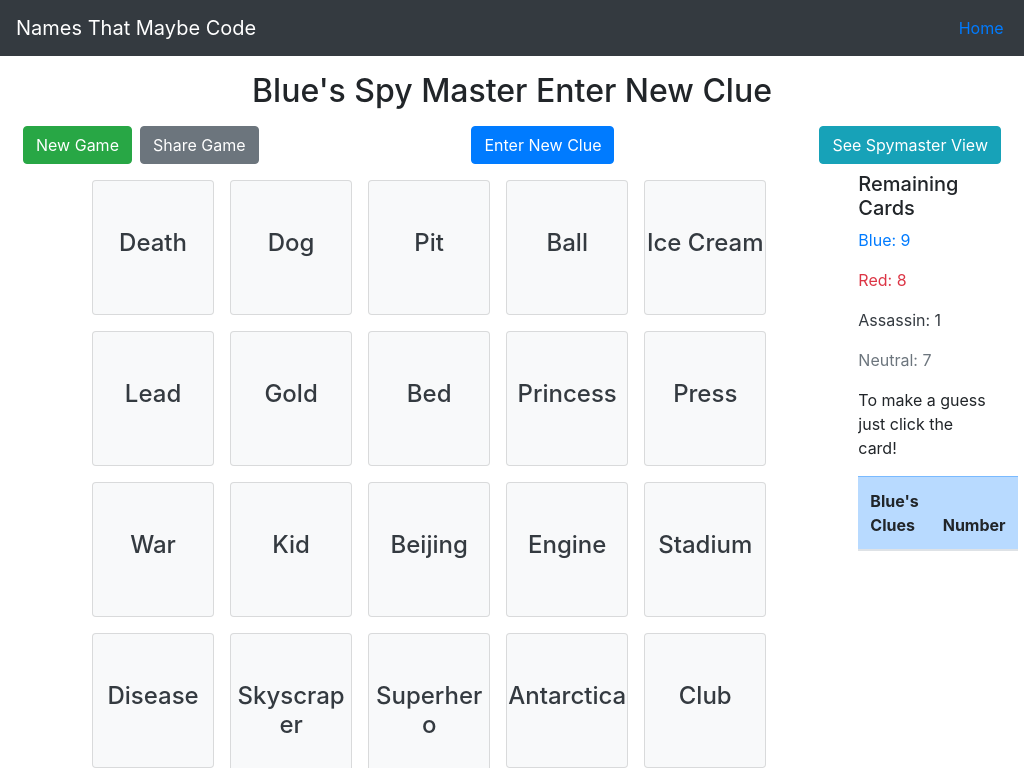
Scenario: Enter Clue › Shows an error when only entering a number
Step 1. Click the button with id "codenames-enterClueButton" → (543, 145), box [471,126,614,164]
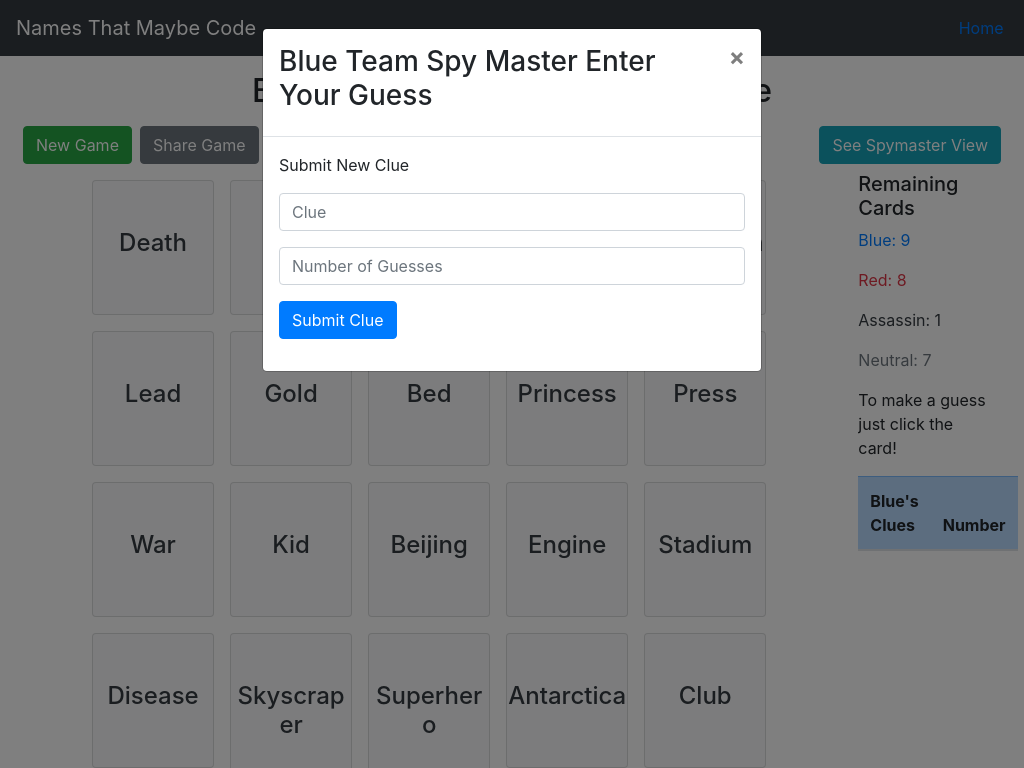
Step 2. Type "2" into the field with id "codenames-clueNumberInput" → (512, 266), box [279,247,745,285]
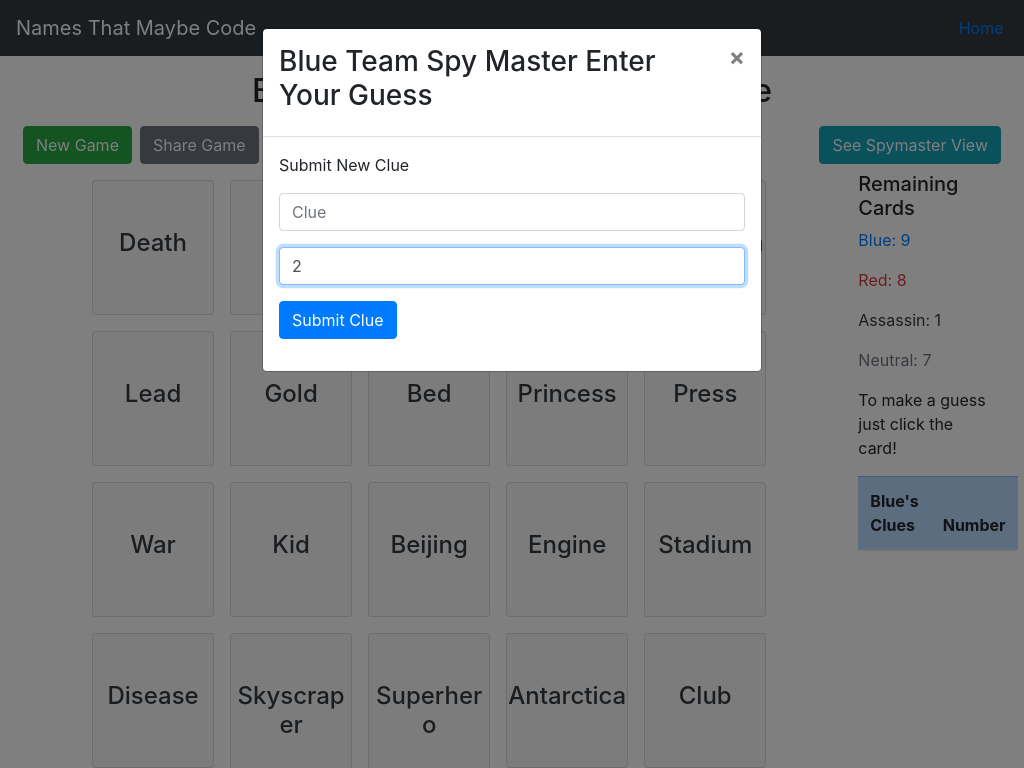
Step 3. Click the button with id "codenames-submitClueButton" → (338, 320), box [279,301,397,339]
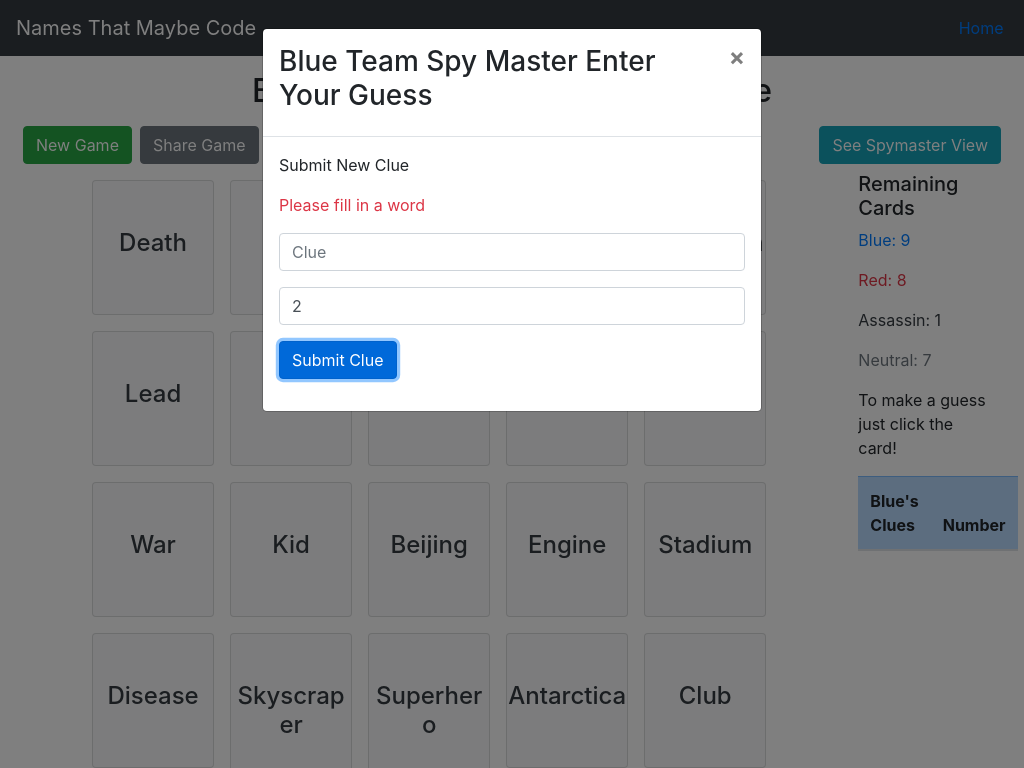
Now the element with id "codenames-clueModal" is shown, box [262,28,762,412]
Now the text with id "codenames-clueWordError" reads "Please fill in a word", box [279,195,425,215]
